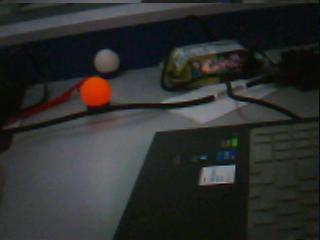oball: (80, 78, 111, 107)
